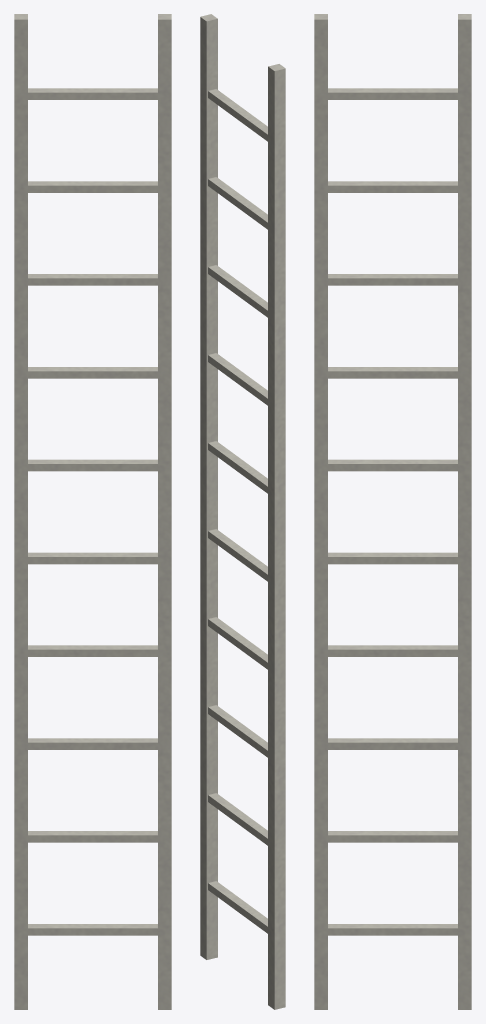
Rendered from SM_L0_Archive_Ladder_320.fbx.
3 renders of one model, left to right at view 1: azimuth 90°, elevation 25°; view 2: azimuth 210°, elevation 25°; view 3: azimuth 270°, elevation 25°, orthographic. The views are drawn at different scales.
Visible parts, largest first — view 1: SM_L0_Archive_Ladder_320; view 2: SM_L0_Archive_Ladder_320; view 3: SM_L0_Archive_Ladder_320.
Part boxes in pixels (x1,y1,x2,y2): SM_L0_Archive_Ladder_320: [14, 14, 171, 1009]; SM_L0_Archive_Ladder_320: [200, 14, 285, 1009]; SM_L0_Archive_Ladder_320: [314, 14, 471, 1009].
Bounding box in the file's own units: 0.04 × 3.2 × 0.46.
